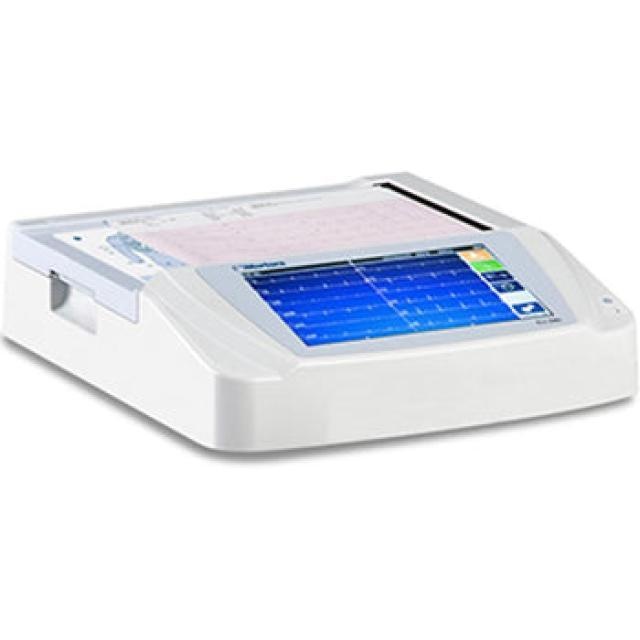Monitor: (0, 168, 638, 456)
